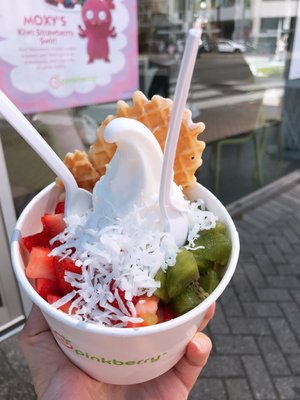sushi: (9, 173, 238, 387)
